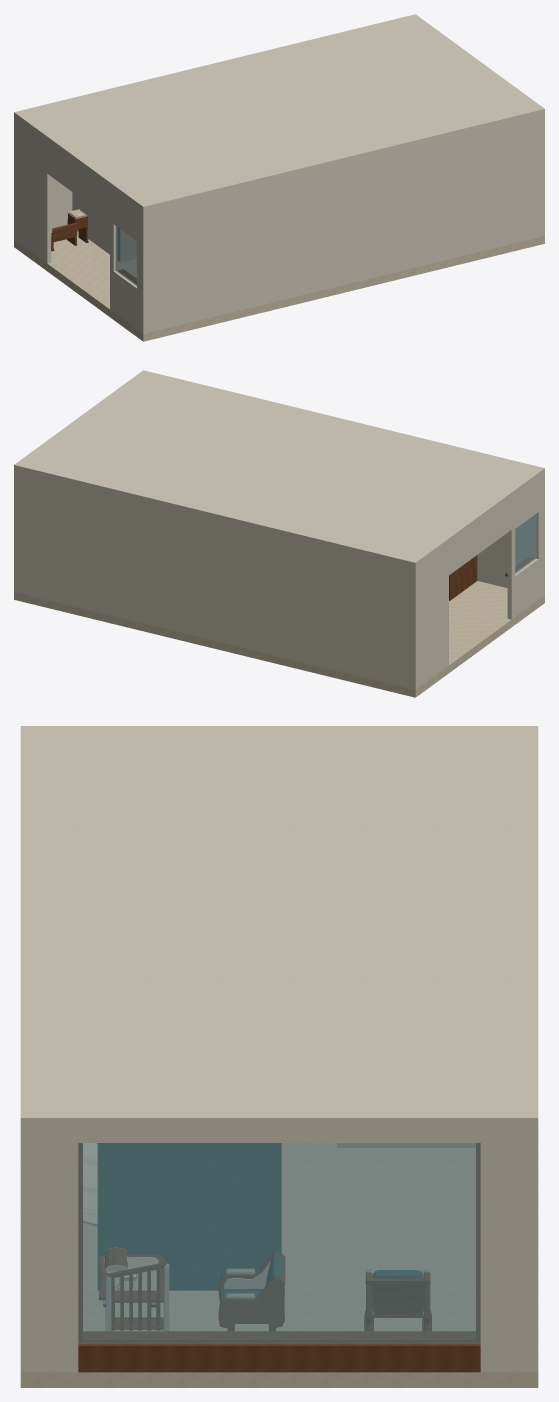
File: QuietGroveBank_123_r001.glb
3 views of the same model, one above another, from view 1: azimuth 30°, elevation 25°; view 2: azimuth 150°, elevation 25°; view 3: azimuth 270°, elevation 25° (orthographic). The views are drawn at different scales.
Parts seen in each view (by area): view 1: QG123_Ceiling, QG123_NorthSide, QG123_RoomFloor, QG123_EntryShoulderSouth, QG123_EntryHeader, QG123_StreetWindowLower, QG123_WashEntrySide, QG123_SouthSide, QG123_StreetWindowUpper, QG123_ScreenedStreetGlass, QGB123_CourtSouthPier; view 2: QG123_Ceiling, QG123_SouthSide, QG123_RoomFloor, QG123_EntryShoulderSouth, QG123_NorthSide, QG123_EntryHeader, QG123_StreetWindowLower, QG123_StreetWindowUpper, QG123_ScreenedStreetGlass, QG123_EntryPrivacyDogleg, QG123_StreetWindowInnerMullion; view 3: QG123_Ceiling, QGB123_PrivateCourtGlass, QG123_RoomFloor, QG123_Cocoon01_RearLiner, QGB123_CourtNorthPier, QGB123_CourtSouthPier, QGB123_CourtSill, QGB123_CourtHeader, QGB123_DeepReveal_0.34, QG123_NorthSide, QG123_SouthSide, QG123_QG123_DayReadingChair__DAY_CHAIR_L_swept_walnut_cheek (+4 smaller).
Boxes of the visible parts, x1,y1,x2,y2 form: QG123_Ceiling: (14,14,544,211); QG123_NorthSide: (141,114,544,333); QG123_RoomFloor: (14,231,544,341); QG123_EntryShoulderSouth: (16,119,51,263); QG123_EntryHeader: (46,141,110,219); QG123_StreetWindowLower: (110,269,141,331); QG123_WashEntrySide: (72,192,123,261); QG123_SouthSide: (14,117,72,240); QG123_StreetWindowUpper: (110,188,141,243); QG123_ScreenedStreetGlass: (115,226,136,285); QGB123_CourtSouthPier: (537,114,544,236); QG123_Ceiling: (14,370,544,567); QG123_SouthSide: (14,470,417,689); QG123_RoomFloor: (14,581,544,697); QG123_EntryShoulderSouth: (417,544,448,687); QG123_NorthSide: (477,473,544,596); QG123_EntryHeader: (449,497,512,575); QG123_StreetWindowLower: (507,556,542,619); QG123_StreetWindowUpper: (510,475,542,531); QG123_ScreenedStreetGlass: (515,514,536,573); QG123_EntryPrivacyDogleg: (449,555,477,600); QG123_StreetWindowInnerMullion: (507,529,515,578); QG123_Ceiling: (20,726,538,1128); QGB123_PrivateCourtGlass: (78,1143,480,1343); QG123_RoomFloor: (20,1143,538,1387); QG123_Cocoon01_RearLiner: (102,1143,276,1290); QGB123_CourtNorthPier: (480,1128,538,1372); QGB123_CourtSouthPier: (20,1128,78,1372); QGB123_CourtSill: (78,1342,480,1372); QGB123_CourtHeader: (78,1128,480,1142); QGB123_DeepReveal_0.34: (83,1331,475,1341); QG123_NorthSide: (20,1128,29,1372); QG123_SouthSide: (529,1128,538,1372); QG123_QG123_DayReadingChair__DAY_CHAIR_L_swept_walnut_cheek: (219,1276,284,1327).
Size of the model in its own units: 12.9 by 4.14 by 7.2.
64 materials, 49 textured.
